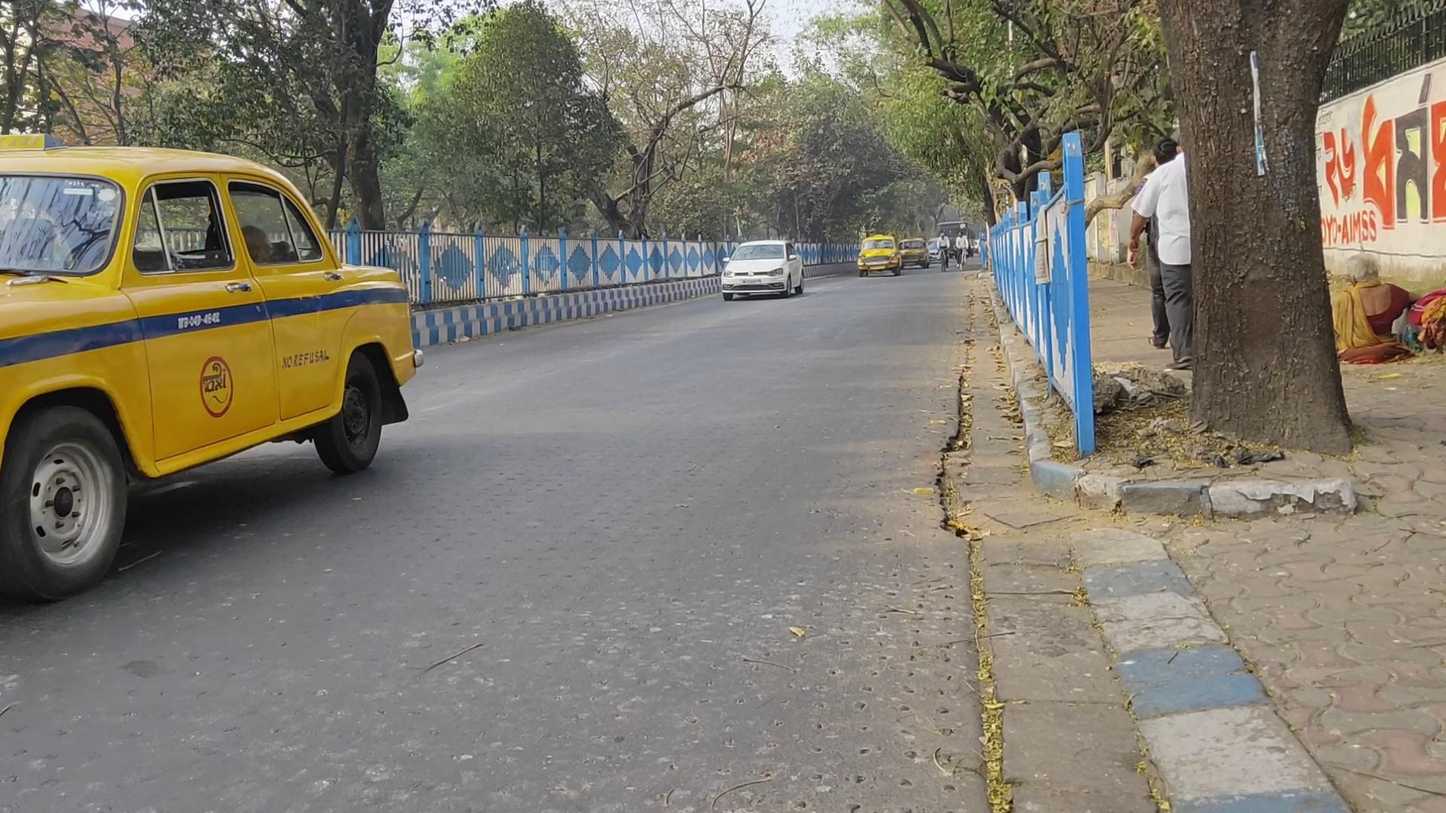bike: (955, 231, 969, 272), (936, 233, 950, 272)
car: (2, 131, 424, 605), (718, 239, 806, 304), (857, 233, 901, 276), (897, 237, 930, 269)
